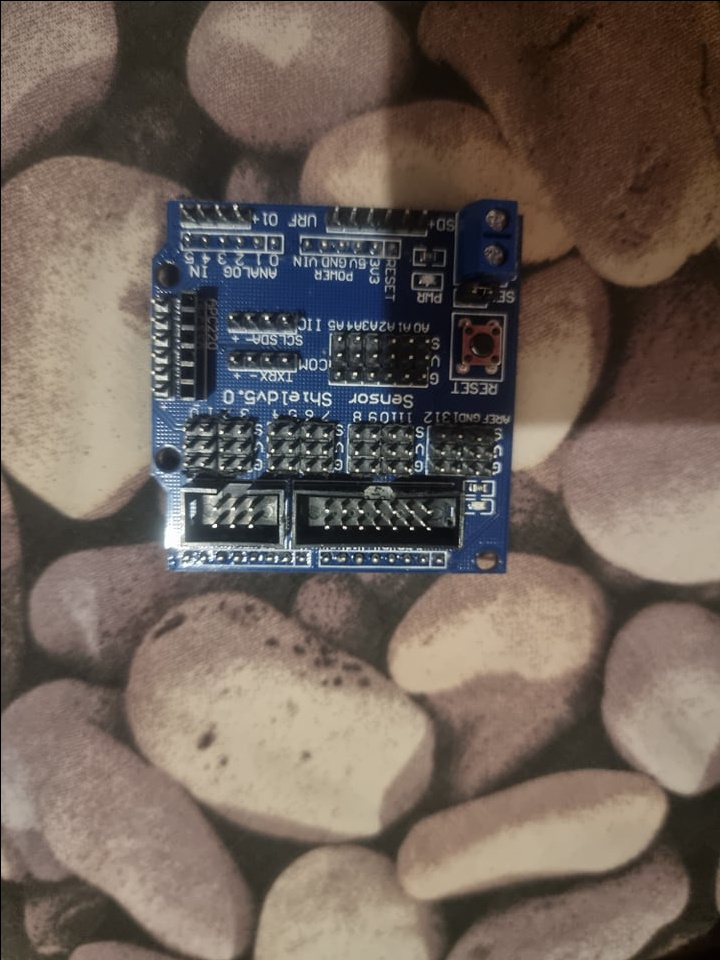5V EXPANSION: (146, 187, 529, 573)
